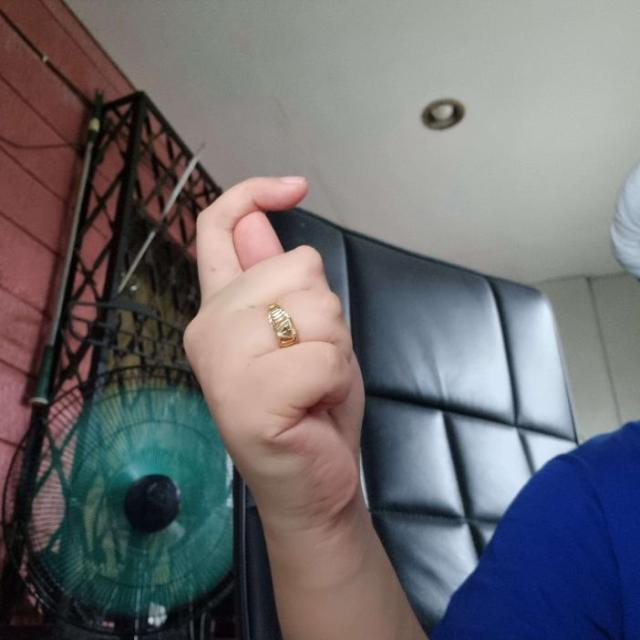T: (182, 173, 366, 528)
